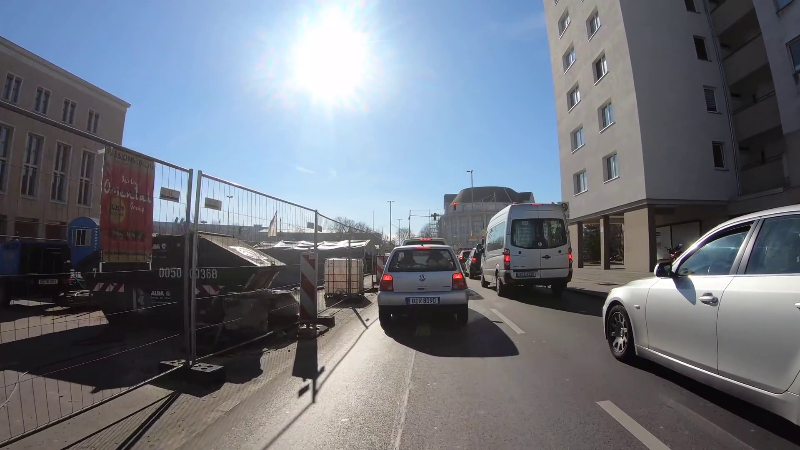Plate: (403, 295, 440, 305), (513, 270, 539, 278)
